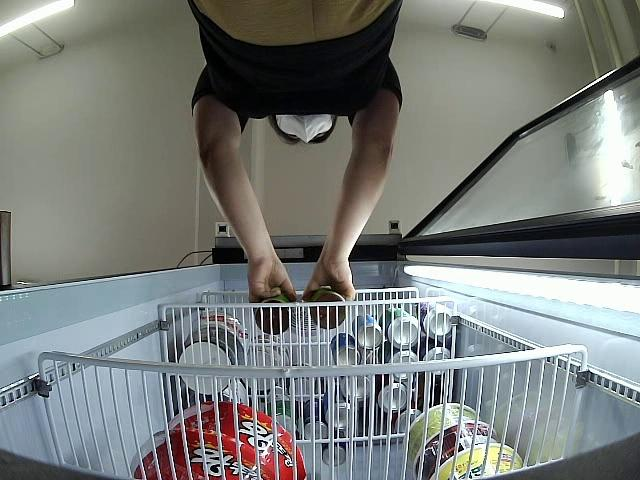00_hand: (247, 256, 302, 305), (302, 256, 357, 302)
19_17cha: (309, 286, 353, 331), (256, 286, 297, 334)
